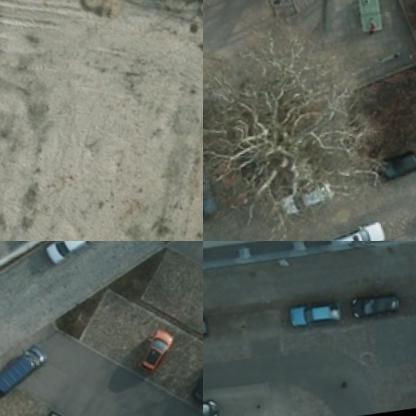car: (285, 292, 348, 330), (137, 325, 179, 377), (323, 207, 388, 240), (283, 188, 337, 220), (372, 151, 415, 186), (353, 289, 403, 318), (44, 241, 94, 267), (203, 165, 225, 216), (265, 226, 332, 240), (189, 356, 202, 402), (203, 397, 226, 415)
van: (0, 347, 54, 397)
